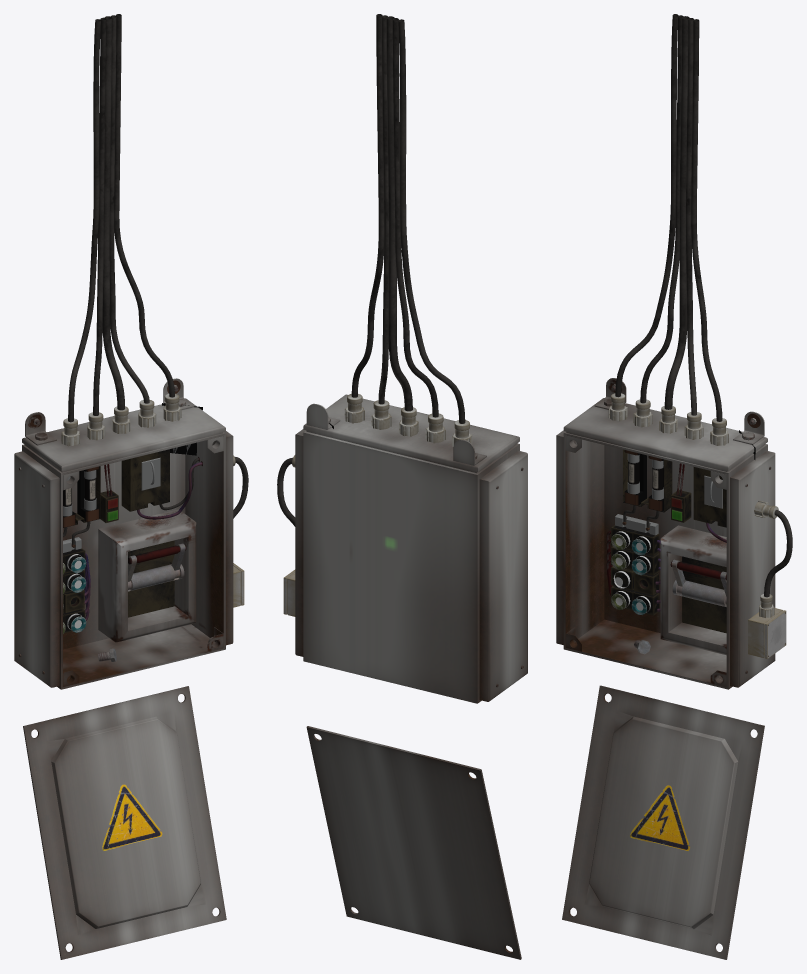
Rendered from FuseBox Final2.fbx.
3 views of the same model, side by side, from view 1: azimuth 30°, elevation 25°; view 2: azimuth 150°, elevation 25°; view 3: azimuth 330°, elevation 25° (orthographic). The views are drawn at different scales.
Visible parts, largest first — view 1: Lid, Cube.001, Cylinder.007, Cube.017, Top, BezierCurve, BezierCurve.004, BezierCurve.003, BezierCurve.002, BezierCurve.001, Cube.002, Cube.008 (+7 smaller); view 2: Cube.001, Lid, Cube.017, Top, BezierCurve, BezierCurve.004, BezierCurve.003, BezierCurve.002, BezierCurve.001, Cube.002, Cube.003, Cube.004; view 3: Lid, Cube.001, Cube.002, Cylinder.007, Top, BezierCurve, BezierCurve.002, BezierCurve.004, BezierCurve.001, BezierCurve.003, Cube.017, Cube.004 (+12 smaller).
Part boxes in pixels (box(x1,y1,x2,y2)): Lid: box(23, 686, 226, 959); Cube.001: box(22, 432, 225, 689); Cylinder.007: box(98, 509, 196, 642); Cube.017: box(14, 451, 59, 687); Top: box(22, 398, 225, 472); BezierCurve: box(102, 16, 124, 410); BezierCurve.004: box(68, 19, 100, 422); BezierCurve.003: box(93, 17, 106, 415); BezierCurve.002: box(114, 14, 174, 397); BezierCurve.001: box(109, 15, 149, 403); Cube.002: box(224, 431, 233, 645); Cube.008: box(130, 449, 169, 511); Cube.001: box(303, 431, 519, 703); Lid: box(306, 726, 521, 959); Cube.017: box(479, 451, 527, 701); Top: box(303, 394, 519, 473); BezierCurve: box(386, 16, 412, 411); BezierCurve.004: box(398, 19, 465, 423); BezierCurve.003: box(392, 18, 438, 417); BezierCurve.002: box(351, 14, 384, 397); BezierCurve.001: box(378, 15, 388, 404); Cube.002: box(295, 429, 305, 656); Cube.003: box(306, 403, 486, 465); Cube.004: box(283, 569, 295, 616); Lid: box(562, 685, 764, 959); Cube.001: box(563, 431, 767, 689); Cube.002: box(730, 451, 775, 687); Cylinder.007: box(660, 525, 726, 655); Top: box(563, 398, 767, 471); BezierCurve: box(664, 16, 689, 409); BezierCurve.002: box(691, 19, 722, 421); BezierCurve.004: box(615, 14, 678, 397); BezierCurve.001: box(686, 18, 696, 415); BezierCurve.003: box(640, 15, 683, 403); Cube.017: box(556, 430, 565, 644); Cube.004: box(748, 608, 786, 658).
Bounding box in the file's own units: 519 × 2032 × 170.
